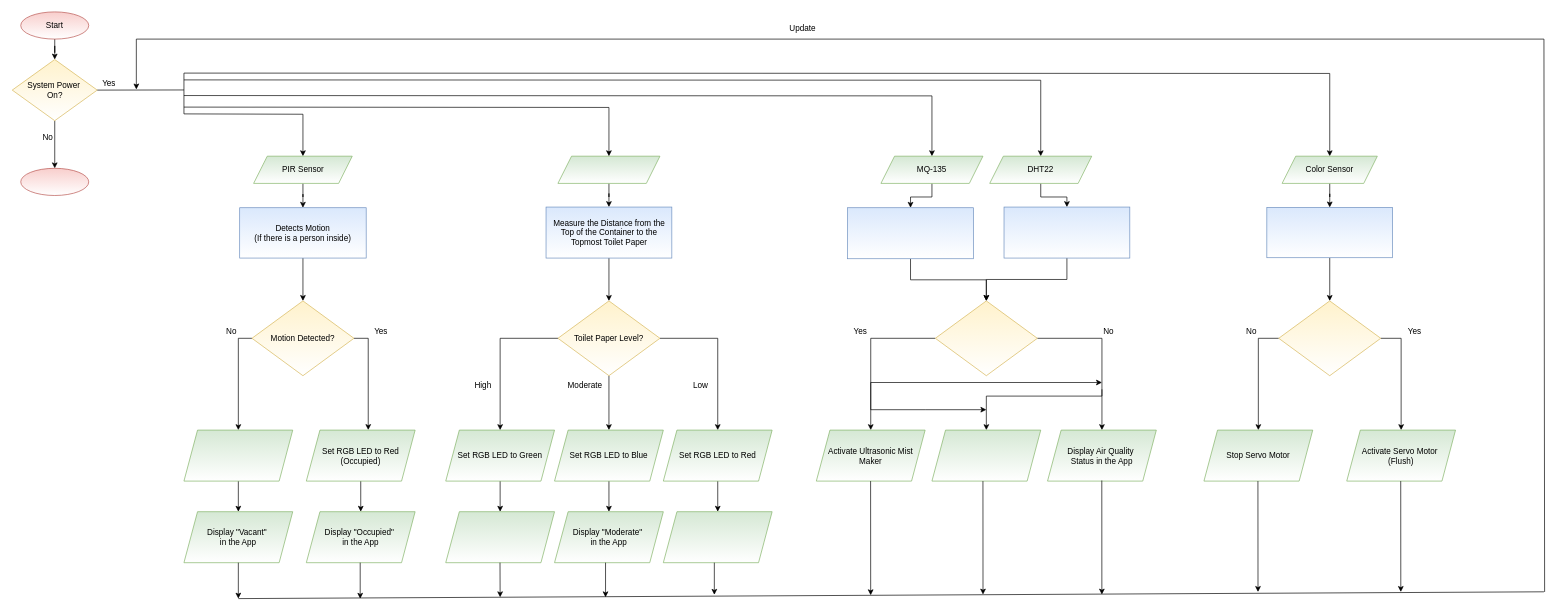
Image size: 1557x616. Some labels were removed from this diagram. Each missing label, with the centre of its shape:
Detects Gases: the point at 910,233
Display "High" in the App: the point at 500,537
Display "Low" in the App: the point at 717,537
Display Temperature & Humidity Reading in the App: the point at 986,455
End: the point at 54,182
Is Air Quality/Humidity Poor?: the point at 986,338
Is Bowl Dirty?: the point at 1329,338
Measures Temperature and Humidity Levels: the point at 1066,232
Senses the Color of the Water in the Toilet Bowl: the point at 1329,232
Set RGB LED to Green (Vacant): the point at 238,455
Ultrasonic Sensor: the point at 608,169
